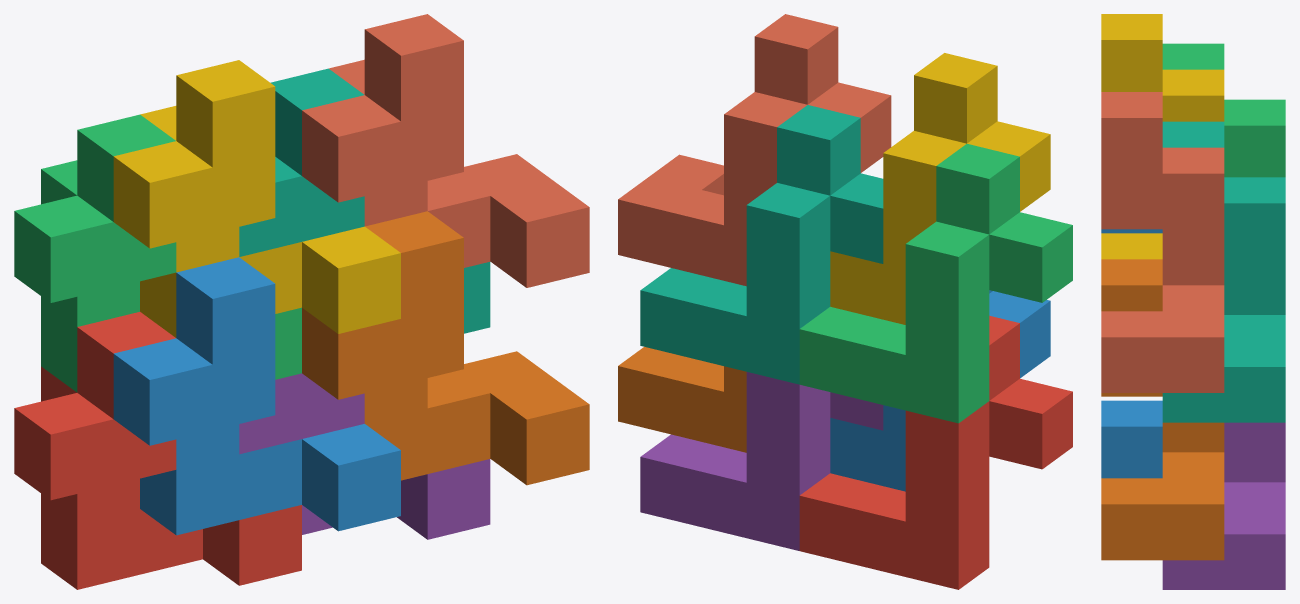
Rendered from tiling.obj.
3 renders of one model, left to right at view 1: azimuth 30°, elevation 25°; view 2: azimuth 150°, elevation 25°; view 3: azimuth 270°, elevation 25°, orthographic. The views are drawn at different scales.
Visible parts, largest first — view 1: copy_1_domain_2, copy_1_domain_8, copy_1_domain_6, copy_1_domain_4, copy_1_domain_1, copy_1_domain_3, copy_1_domain_7, copy_1_domain_5; view 2: copy_1_domain_3, copy_1_domain_7, copy_1_domain_1, copy_1_domain_8, copy_1_domain_5, copy_1_domain_4, copy_1_domain_6, copy_1_domain_2; view 3: copy_1_domain_8, copy_1_domain_7, copy_1_domain_6, copy_1_domain_5, copy_1_domain_4, copy_1_domain_3, copy_1_domain_2.
Boxes of the visible parts, x1,y1,x2,y2 form: copy_1_domain_2: (113,257,400,535); copy_1_domain_8: (302,14,589,287); copy_1_domain_6: (302,211,589,485); copy_1_domain_4: (113,60,400,337); copy_1_domain_1: (14,312,301,589); copy_1_domain_3: (14,114,301,392); copy_1_domain_7: (239,68,490,333); copy_1_domain_5: (239,373,490,539); copy_1_domain_3: (799,144,1072,423); copy_1_domain_7: (640,105,883,384); copy_1_domain_1: (799,315,1072,589); copy_1_domain_8: (618,14,891,286); copy_1_domain_5: (640,372,883,550); copy_1_domain_4: (830,53,1050,324); copy_1_domain_6: (618,347,746,452); copy_1_domain_2: (830,290,1050,491); copy_1_domain_8: (1101,92,1224,392); copy_1_domain_7: (1162,121,1285,422); copy_1_domain_6: (1101,259,1224,560); copy_1_domain_5: (1162,422,1285,589); copy_1_domain_4: (1101,14,1224,259); copy_1_domain_3: (1162,43,1285,177); copy_1_domain_2: (1101,229,1162,478).
Size of the model in its own units: 8 by 8 by 3.
